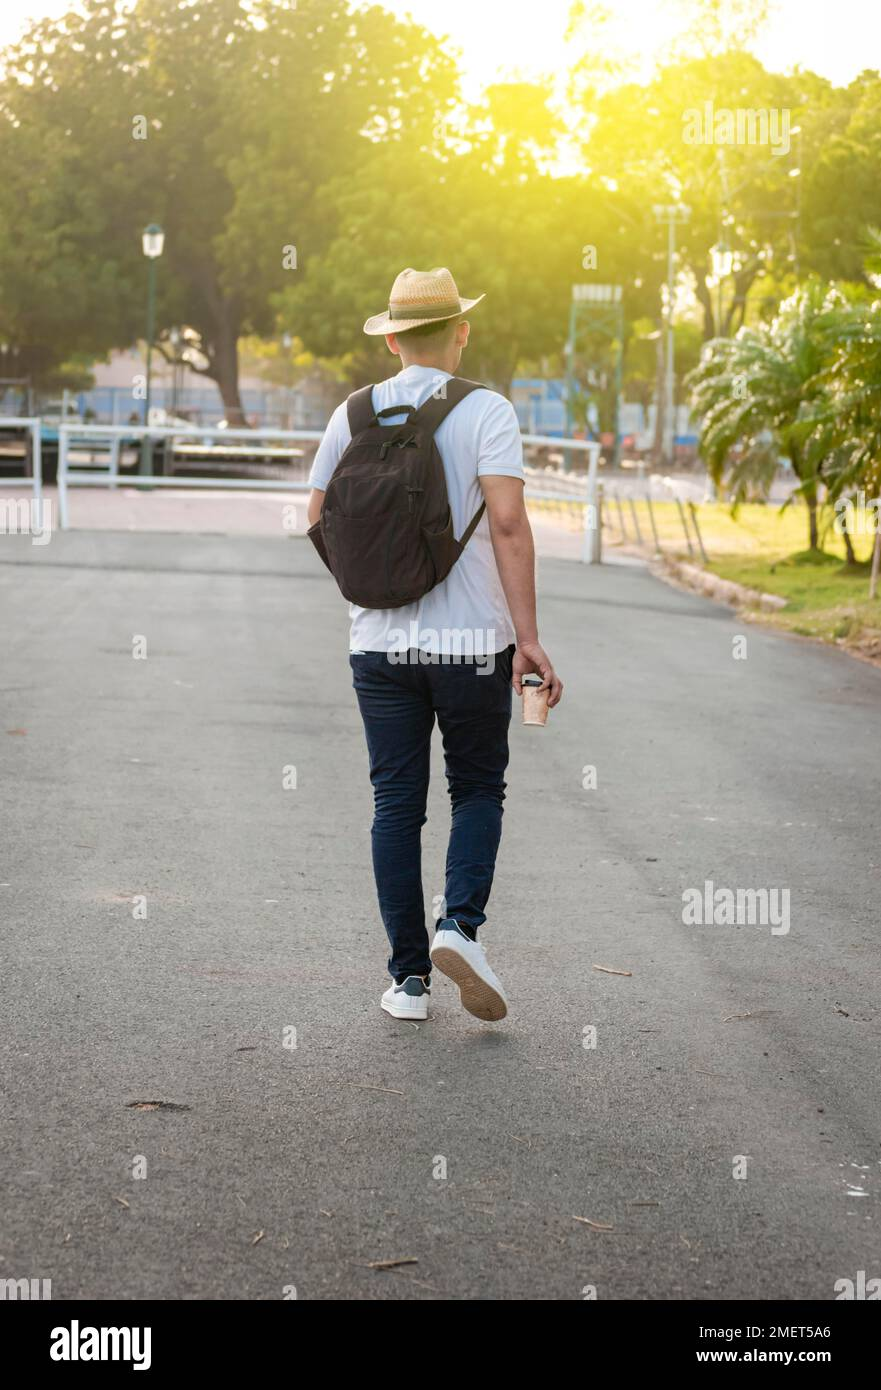person: (305, 261, 568, 1037)
